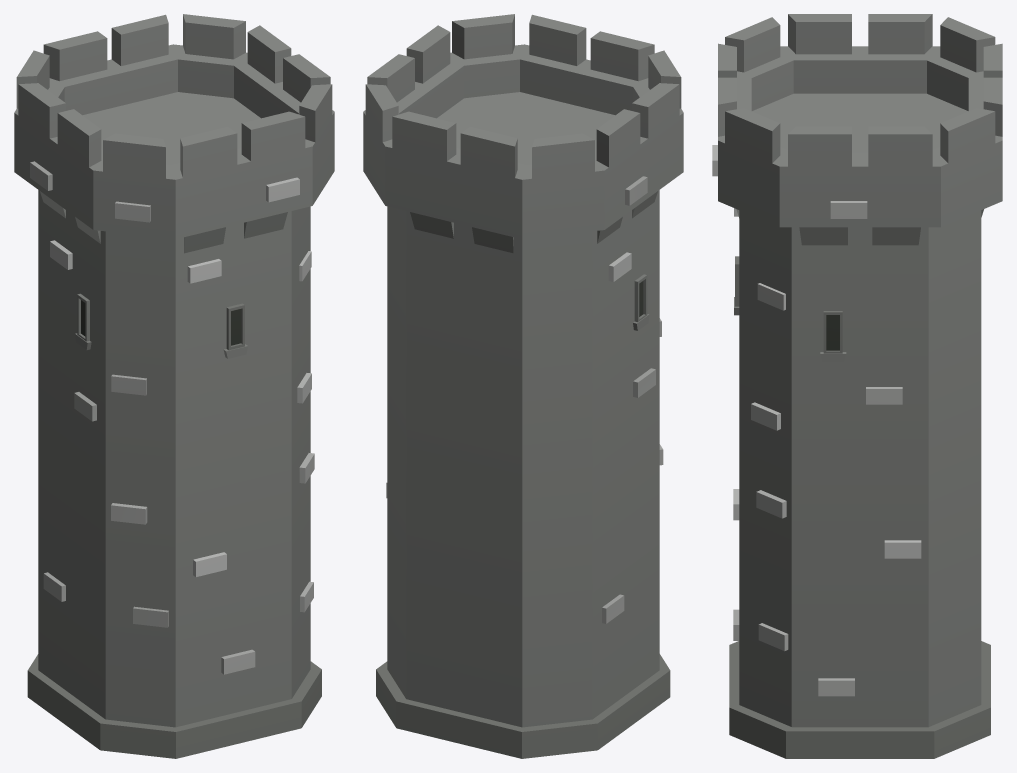
3 renders of one model, left to right at view 1: azimuth 30°, elevation 25°; view 2: azimuth 150°, elevation 25°; view 3: azimuth 270°, elevation 25°, orthographic. The views are drawn at different scales.
Parts seen in each view (by area): view 1: Tower6_0; view 2: Tower6_0; view 3: Tower6_0.
Part boxes in pixels (<box>): Tower6_0: <box>14,14,334,758</box>; Tower6_0: <box>363,14,683,758</box>; Tower6_0: <box>712,14,1002,758</box>.
Size of the model in its own units: 8.15 by 19.16 by 8.01.
1 material, 1 textured.
